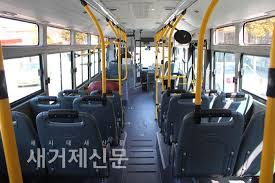seat: (180, 102, 240, 168)
